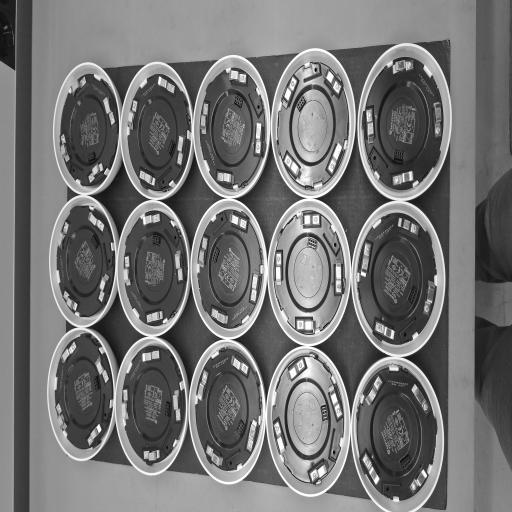konnektor: (407, 284, 418, 304), (400, 453, 412, 470), (237, 420, 246, 438), (212, 246, 221, 263), (320, 404, 328, 422), (307, 237, 317, 251), (234, 94, 243, 108), (91, 234, 99, 249), (394, 150, 404, 162), (168, 140, 175, 156), (87, 152, 96, 164), (165, 401, 171, 417), (152, 236, 161, 246), (94, 375, 100, 390)
yayli: (360, 449, 380, 487), (281, 74, 300, 110), (411, 382, 431, 416), (326, 142, 344, 178), (328, 382, 344, 422), (322, 66, 342, 98), (364, 374, 384, 406), (410, 464, 430, 494), (286, 355, 308, 382), (307, 458, 328, 486), (283, 151, 301, 182), (273, 417, 287, 456), (360, 242, 373, 279), (206, 443, 224, 469), (397, 216, 419, 237), (102, 96, 116, 128), (196, 368, 209, 402), (246, 419, 259, 453), (96, 353, 110, 384), (423, 281, 435, 317), (374, 320, 394, 341), (392, 58, 414, 76), (250, 270, 262, 303), (392, 171, 414, 189), (231, 354, 249, 376), (365, 106, 375, 145), (198, 236, 210, 268), (55, 403, 68, 432), (56, 221, 69, 250), (87, 422, 102, 447), (88, 162, 105, 184), (230, 212, 248, 232), (88, 210, 104, 232), (61, 340, 77, 362), (98, 272, 110, 301), (157, 76, 175, 95), (210, 307, 228, 326), (127, 100, 138, 131), (300, 211, 320, 228), (200, 102, 210, 135), (433, 102, 442, 138), (295, 318, 315, 334), (59, 134, 70, 163), (254, 122, 263, 157), (71, 76, 86, 97), (334, 260, 343, 295), (229, 68, 247, 84), (176, 134, 185, 166), (142, 212, 161, 227), (64, 292, 78, 312), (275, 251, 283, 286), (175, 251, 184, 282), (216, 170, 233, 186), (139, 170, 155, 187), (173, 390, 181, 421), (146, 310, 163, 324), (122, 388, 129, 421), (142, 350, 159, 363), (123, 257, 131, 284), (144, 449, 160, 462), (131, 100, 138, 112), (88, 173, 95, 184), (60, 134, 66, 145)
